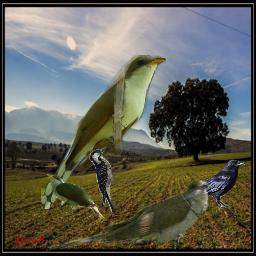Crow: (178, 158, 246, 210)
Cuckoo: (41, 55, 166, 209), (45, 178, 209, 253), (46, 174, 108, 221)
Woodpecker: (89, 146, 124, 212)
